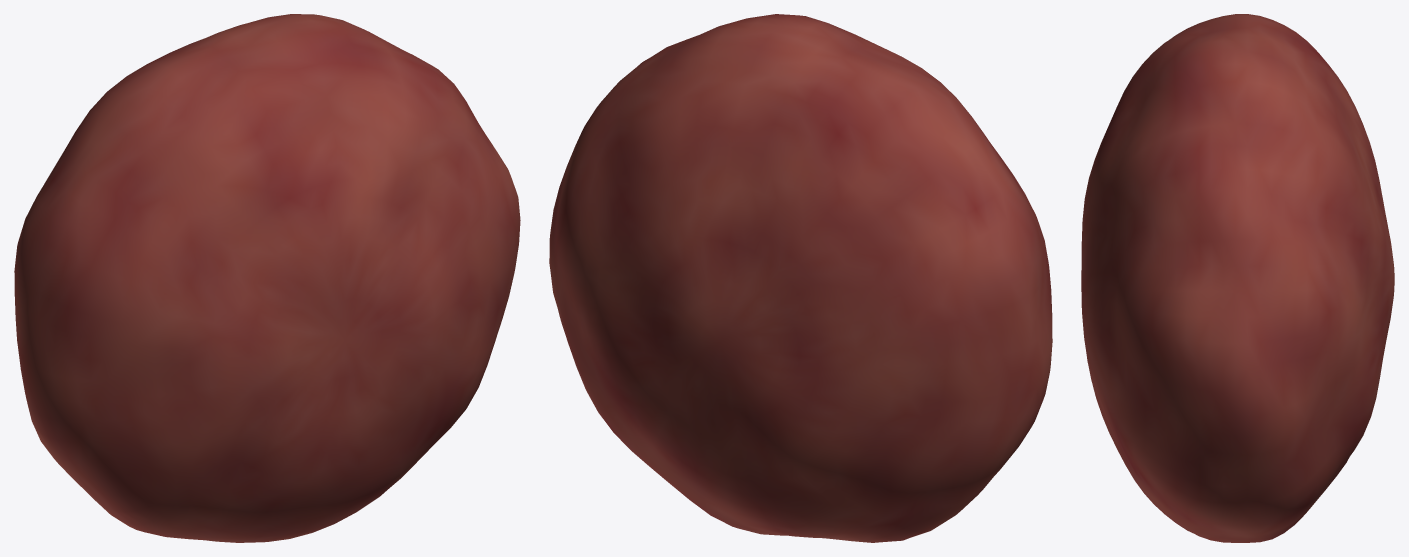
The model's file is mucosal.glb.
3 renders of one model, left to right at view 1: azimuth 30°, elevation 25°; view 2: azimuth 150°, elevation 25°; view 3: azimuth 270°, elevation 25°, orthographic. The views are drawn at different scales.
Visible parts, largest first — view 1: mucosal; view 2: mucosal; view 3: mucosal.
Boxes of the visible parts, x1=… form: mucosal: x1=14, y1=14, x2=520, y2=542; mucosal: x1=549, y1=14, x2=1052, y2=542; mucosal: x1=1081, y1=14, x2=1394, y2=542.
Size of the model in its own units: 2 by 2 by 1.18.
